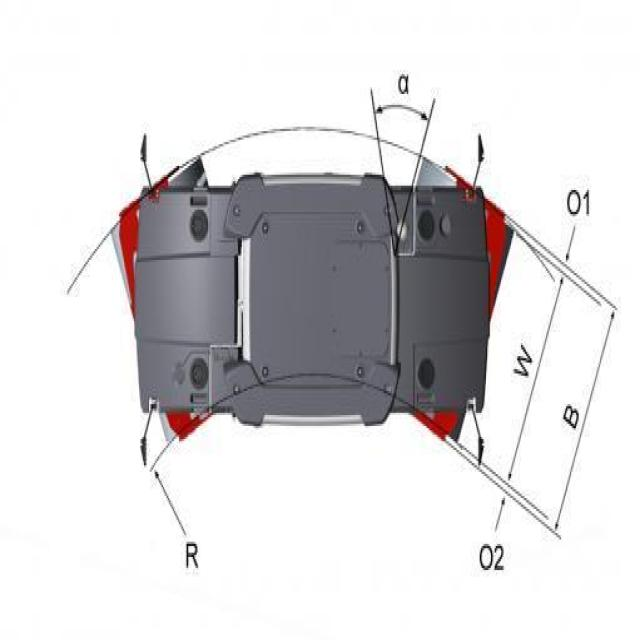Tanks: (133, 168, 490, 422)
